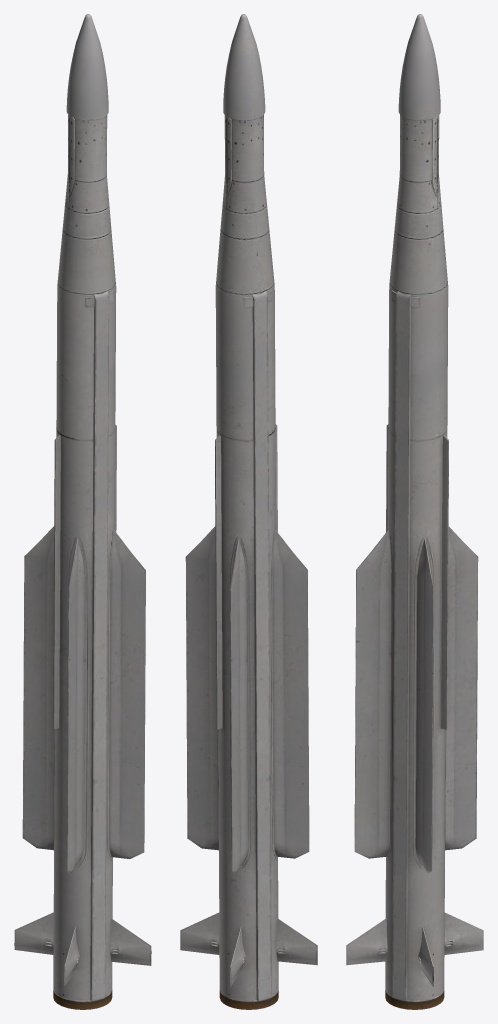
The model's file is iris-t.glb.
3 views of the same model, side by side, from view 1: azimuth 30°, elevation 25°; view 2: azimuth 210°, elevation 25°; view 3: azimuth 330°, elevation 25° (orthographic).
Parts seen in each view (by area): view 1: Object_41.001; view 2: Object_41.001; view 3: Object_41.001.
Boxes of the visible parts, x1,y1,x2,y2 form: Object_41.001: (14,14,151,1009); Object_41.001: (180,14,317,1009); Object_41.001: (346,14,483,1009).
Size of the model in its own units: 0.343 by 3.68 by 0.3428.
1 material, 1 textured.
